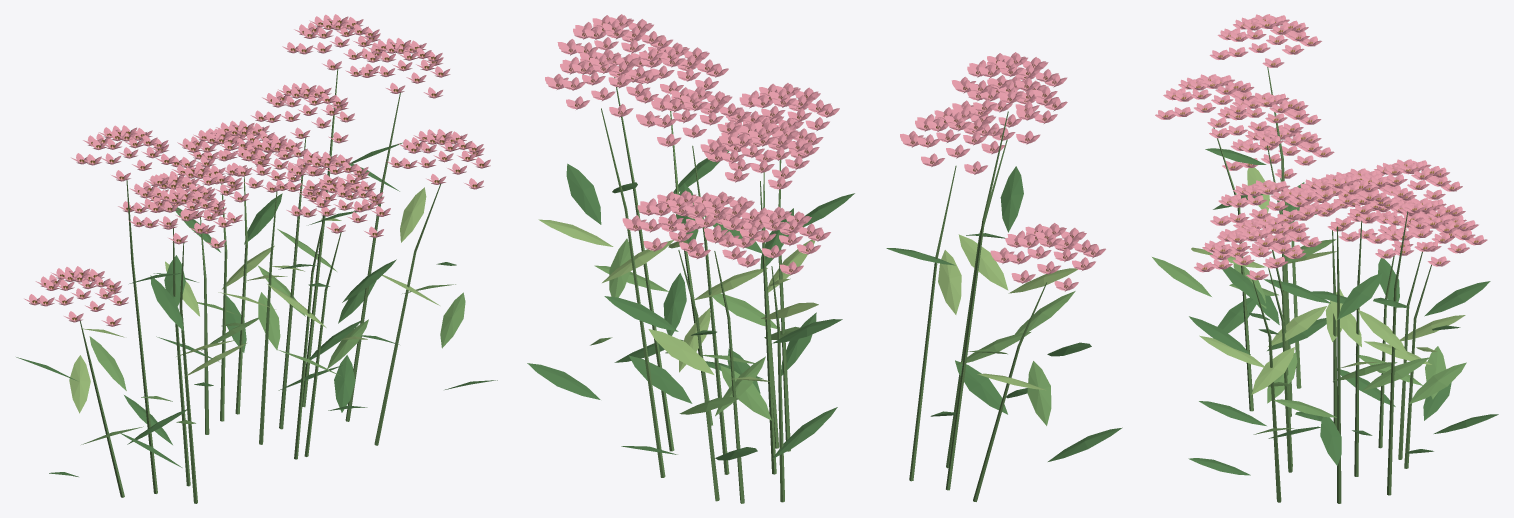
The model's file is hydrangea-border.glb.
3 views of the same model, side by side, from view 1: azimuth 30°, elevation 25°; view 2: azimuth 150°, elevation 25°; view 3: azimuth 270°, elevation 25° (orthographic). The views are drawn at different scales.
Visible parts, largest first — view 1: hydrangea-border; view 2: hydrangea-border; view 3: hydrangea-border.
Boxes of the visible parts, x1,y1,x2,y2 form: hydrangea-border: [16, 14, 497, 503]; hydrangea-border: [527, 14, 1122, 503]; hydrangea-border: [1152, 14, 1498, 503].
Bounding box in the file's own units: 1 × 0.8 × 0.7.
